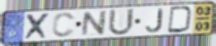C: (51, 11, 77, 39)
D: (166, 6, 195, 34)
J: (145, 7, 165, 33)
N: (80, 10, 109, 38)
U: (107, 8, 136, 37)
X: (24, 12, 53, 41)
